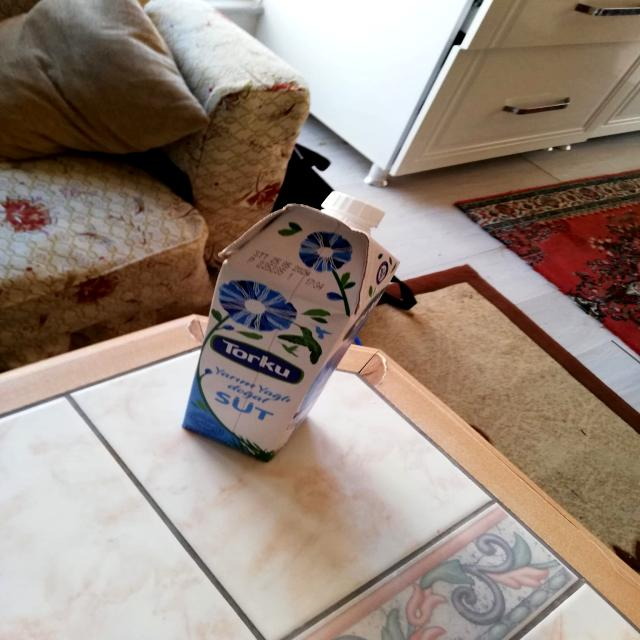milk: (176, 178, 404, 468)
